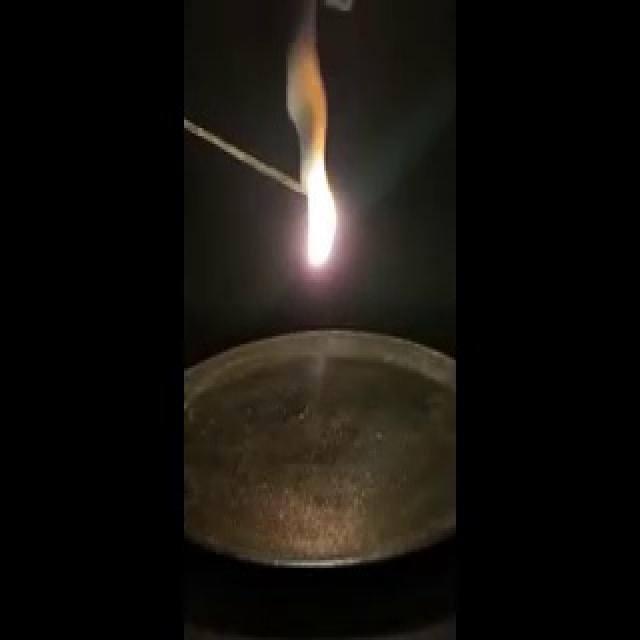fire: (281, 32, 341, 282)
